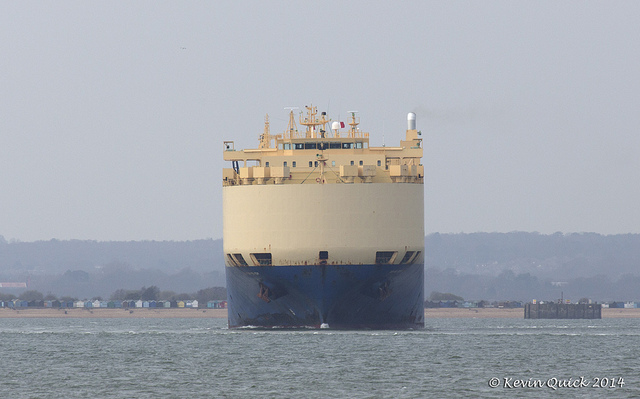PCC: (219, 106, 431, 334)
